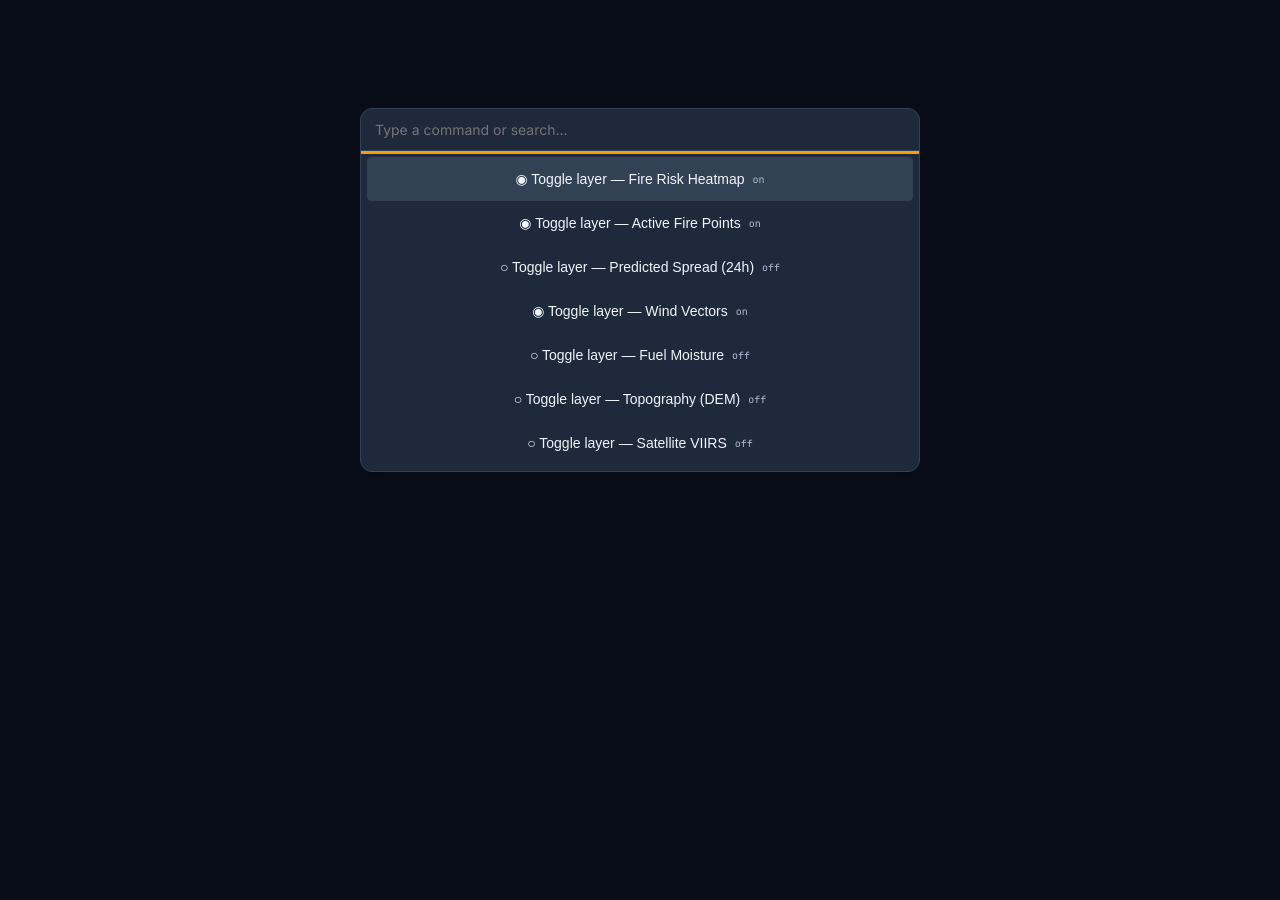
Test case: <CommandPalette> › shows the empty state when nothing matches
Type "zzzz-no-match" into the field at (640, 130), box [361,109,919,151]
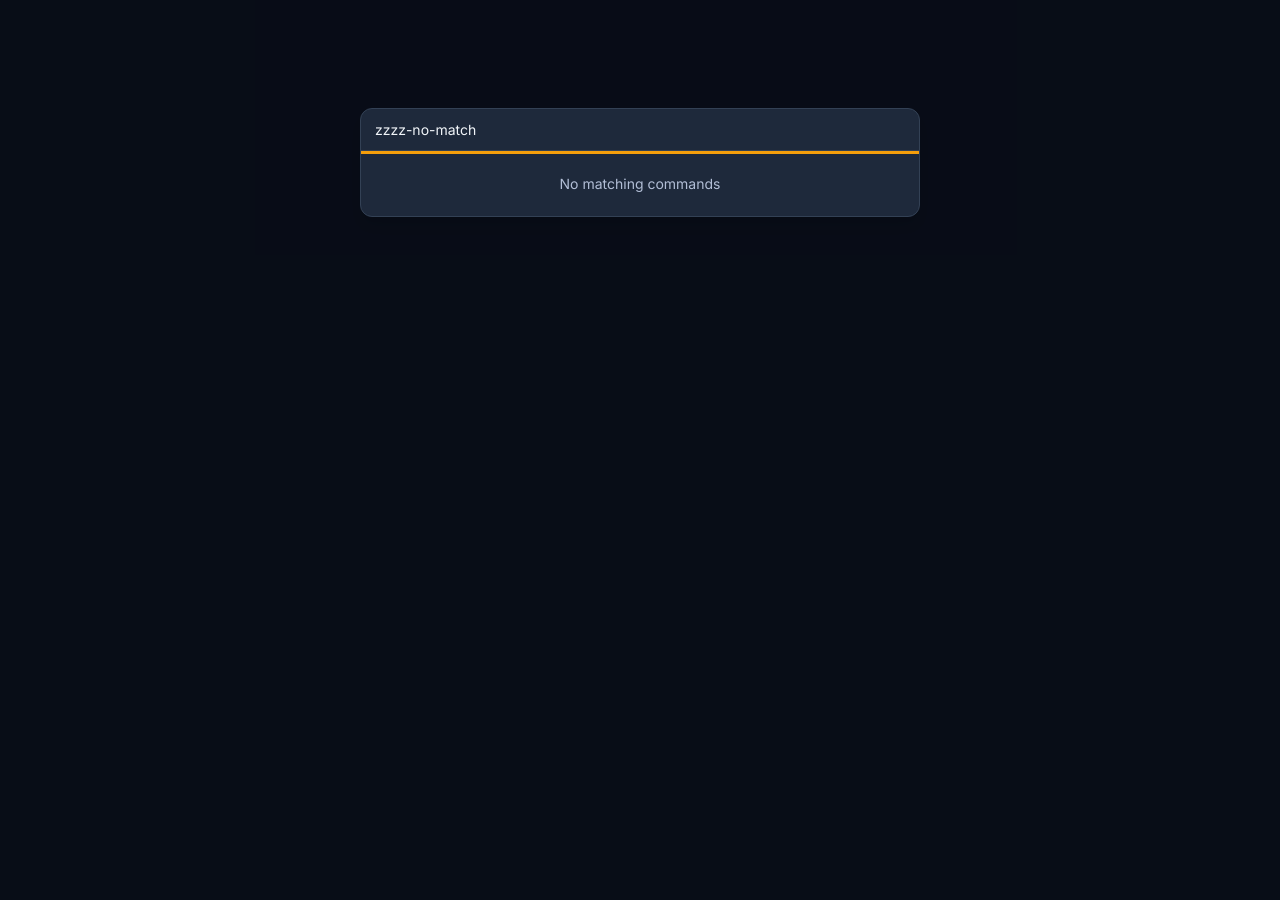
Now the text "No matching commands" is shown, box [560,175,720,192]
